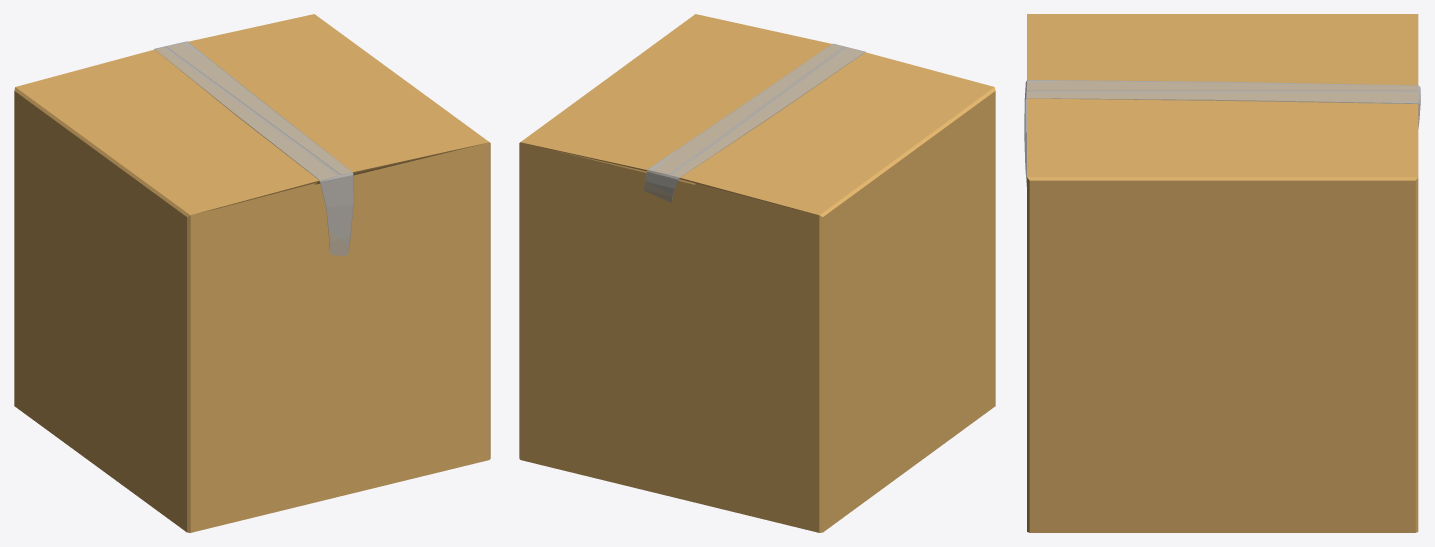
File: Carton_jolie_et_petit.fbx
The picture shows the model from 3 angles, left to right: view 1: azimuth 30°, elevation 25°; view 2: azimuth 150°, elevation 25°; view 3: azimuth 270°, elevation 25°; orthographic projection. The views are drawn at different scales.
Visible parts, largest first — view 1: Cube, Cube.001; view 2: Cube, Cube.001; view 3: Cube, Cube.001.
Part boxes in pixels (x1,y1,x2,y2): Cube: [14, 14, 490, 532]; Cube.001: [154, 41, 353, 256]; Cube: [519, 14, 995, 532]; Cube.001: [644, 43, 865, 202]; Cube: [1027, 14, 1418, 532]; Cube.001: [1024, 80, 1420, 186].
Bounding box in the file's own units: 200 × 203 × 203.
